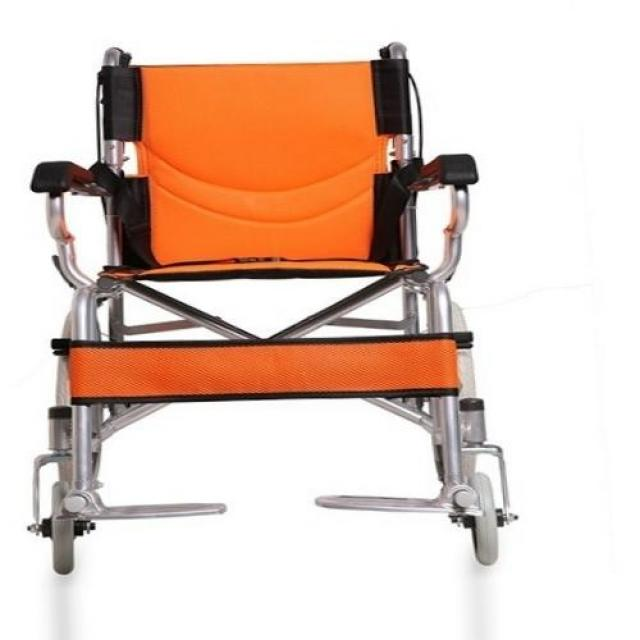wheelchair: (15, 40, 532, 584)
